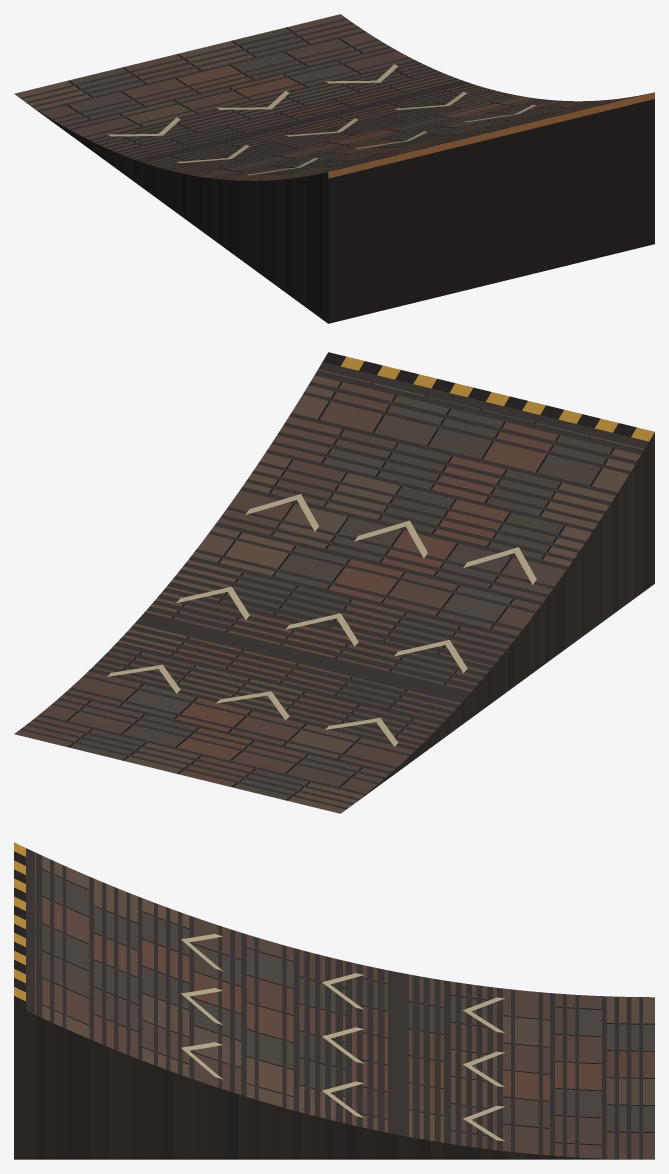
Rendered from plate_kicker_30x8x18.glb.
The picture shows the model from 3 angles, top to bottom: view 1: azimuth 30°, elevation 25°; view 2: azimuth 150°, elevation 25°; view 3: azimuth 270°, elevation 25°; orthographic projection.
Visible parts, largest first — view 1: plate_kicker_30x8x18, plate_kicker_30x8x18-col; view 2: plate_kicker_30x8x18, plate_kicker_30x8x18-col; view 3: plate_kicker_30x8x18, plate_kicker_30x8x18-col.
Part boxes in pixels (x1,y1,x2,y2): plate_kicker_30x8x18: (14, 14, 654, 323); plate_kicker_30x8x18-col: (20, 18, 643, 180); plate_kicker_30x8x18: (14, 352, 654, 813); plate_kicker_30x8x18-col: (20, 362, 648, 809); plate_kicker_30x8x18: (14, 842, 654, 1159); plate_kicker_30x8x18-col: (26, 848, 642, 1159).
Size of the model in its own units: 18 by 8 by 30.
